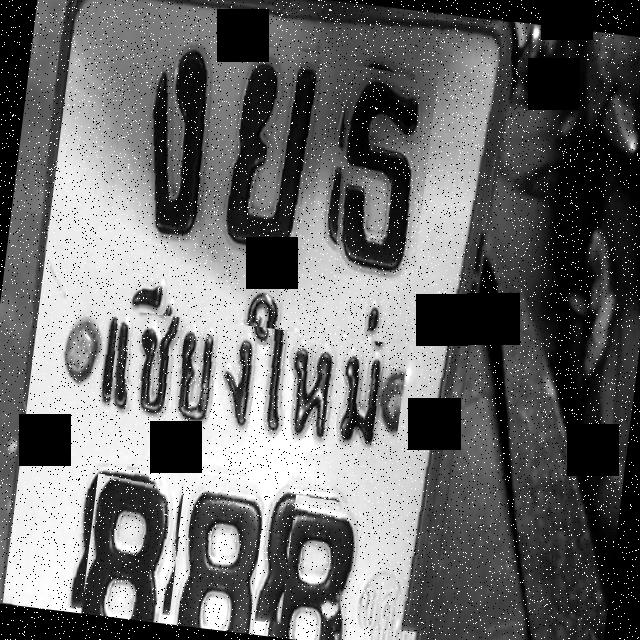letters: (101, 19, 228, 250), (210, 43, 336, 273), (322, 63, 438, 283), (167, 468, 267, 634), (80, 473, 180, 623), (278, 494, 365, 640)
license-plate: (2, 0, 514, 636)
province: (103, 310, 408, 466)
